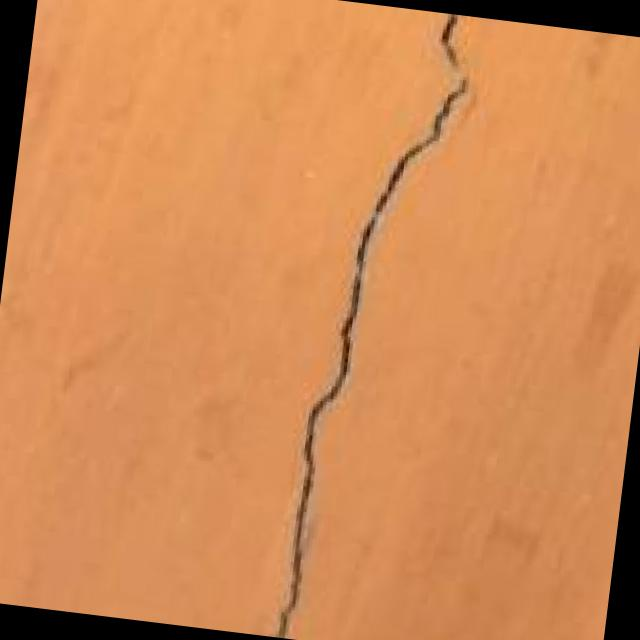crack: (243, 0, 508, 640)
